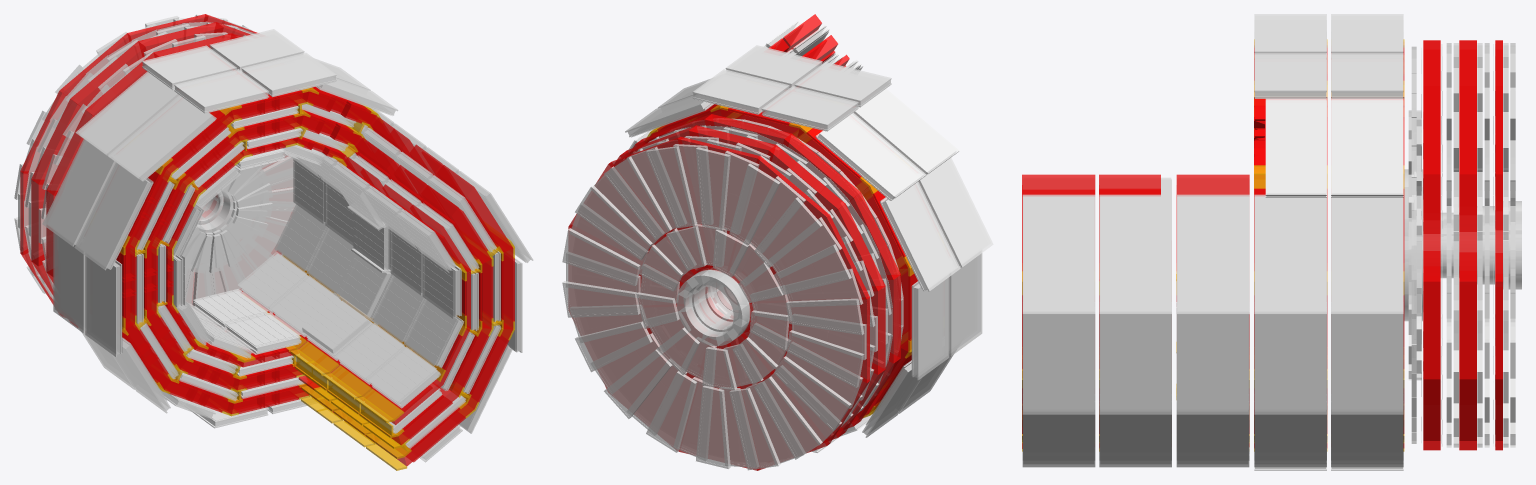
The model's file is muon-2.glb.
3 renders of one model, left to right at view 1: azimuth 30°, elevation 25°; view 2: azimuth 150°, elevation 25°; view 3: azimuth 270°, elevation 25°, orthographic. The views are drawn at different scales.
Visible parts, largest first — view 1: Mesh2129 mb4_MB4BigSuperLayerPhi_materials_Air19 lp_mb4_MB4B, Mesh956 mb4_MB4BigSuperLayerPhi_materials_Air9 lp_mb4_MB4Big, Mesh2126 mb4_MB4BigHoneycombBox_materials_Air8 lp_mb4_MB4Big, Mesh2130 mb4_MB4BigHoneycombBox_materials_Air9 lp_mb4_MB4Big, Mesh2125 mb4_MB4BigSuperLayerPhi_materials_Air17 lp_mb4_MB4B, Mesh952 mb4_MB4BigSuperLayerPhi_materials_Air7 lp_mb4_MB4Big, Mesh953 mb4_MB4BigHoneycombBox_materials_Air3 lp_mb4_MB4BigH, Mesh957 mb4_MB4BigHoneycombBox_materials_Air4 lp_mb4_MB4BigH, Mesh2134 mb4_MB4BigHoneycombBox_materials_Air10 lp_mb4_MB4Bi, Mesh2133 mb4_MB4BigSuperLayerPhi_materials_Air21 lp_mb4_MB4B, Mesh960 mb4_MB4BigSuperLayerPhi_materials_Air11 lp_mb4_MB4Bi, Mesh961 mb4_MB4BigHoneycombBox_materials_Air5 lp_mb4_MB4BigH (+76 smaller); view 2: Mesh458 muonYoke_YE3_b_materials_AISI_1018_Steel1 lp_muonYok, Mesh459 muonYoke_YE3_b_materials_AISI_1018_Steel2 lp_muonYok, Mesh956 mb4_MB4BigSuperLayerPhi_materials_Air9 lp_mb4_MB4Big, Mesh2129 mb4_MB4BigSuperLayerPhi_materials_Air19 lp_mb4_MB4B, Mesh457 muonYoke_YE3_b_materials_AISI_1018_Steel lp_muonYoke, Mesh953 mb4_MB4BigHoneycombBox_materials_Air3 lp_mb4_MB4BigH, Mesh957 mb4_MB4BigHoneycombBox_materials_Air4 lp_mb4_MB4BigH, Mesh952 mb4_MB4BigSuperLayerPhi_materials_Air7 lp_mb4_MB4Big, Mesh2125 mb4_MB4BigSuperLayerPhi_materials_Air17 lp_mb4_MB4B, Mesh2126 mb4_MB4BigHoneycombBox_materials_Air8 lp_mb4_MB4Big, Mesh460 muonYoke_YE3_b_materials_AISI_1018_Steel3 lp_muonYok, Mesh2130 mb4_MB4BigHoneycombBox_materials_Air9 lp_mb4_MB4Big (+109 smaller); view 3: Mesh2916 mb4_MB4BigSuperLayerPhi_materials_Air31 lp_mb4_MB4B, Mesh2272 mb4_MB4BigSuperLayerPhi_materials_Air23 lp_mb4_MB4B, Mesh2635 mb4_MB4BigSuperLayerPhi_materials_Air29 lp_mb4_MB4B, Mesh1546 mb4_MB4BigSuperLayerPhi_materials_Air15 lp_mb4_MB4B, Mesh648 mb4_MB4BigSuperLayerPhi_materials_Air3 lp_mb4_MB4Big, Mesh2273 mb4_MB4BigHoneycombBox_materials_Air11 lp_mb4_MB4Bi, Mesh1547 mb4_MB4BigHoneycombBox_materials_Air7 lp_mb4_MB4Big, Mesh649 mb4_MB4BigHoneycombBox_materials_Air1 lp_mb4_MB4BigH, Mesh2636 mb4_MB4BigHoneycombBox_materials_Air14 lp_mb4_MB4Bi, Mesh2917 mb4_MB4BigHoneycombBox_materials_Air15 lp_mb4_MB4Bi, Mesh2287 mb4_MB4BigSuperLayerPhi_materials_Air25 lp_mb4_MB4B, Mesh3029 mb4_MB4BigSuperLayerPhi_materials_Air33 lp_mb4_MB4B (+56 smaller).
Part boxes in pixels (bbox=[...]): Mesh2129 mb4_MB4BigSuperLayerPhi_materials_Air19 lp_mb4_MB4B: bbox=[74, 162, 148, 270]; Mesh956 mb4_MB4BigSuperLayerPhi_materials_Air9 lp_mb4_MB4Big: bbox=[42, 139, 114, 246]; Mesh2126 mb4_MB4BigHoneycombBox_materials_Air8 lp_mb4_MB4Big: bbox=[111, 96, 213, 179]; Mesh2130 mb4_MB4BigHoneycombBox_materials_Air9 lp_mb4_MB4Big: bbox=[77, 164, 151, 269]; Mesh2125 mb4_MB4BigSuperLayerPhi_materials_Air17 lp_mb4_MB4B: bbox=[108, 95, 212, 178]; Mesh952 mb4_MB4BigSuperLayerPhi_materials_Air7 lp_mb4_MB4Big: bbox=[75, 71, 178, 155]; Mesh953 mb4_MB4BigHoneycombBox_materials_Air3 lp_mb4_MB4BigH: bbox=[79, 73, 179, 155]; Mesh957 mb4_MB4BigHoneycombBox_materials_Air4 lp_mb4_MB4BigH: bbox=[45, 140, 116, 244]; Mesh2134 mb4_MB4BigHoneycombBox_materials_Air10 lp_mb4_MB4Bi: bbox=[87, 258, 120, 354]; Mesh2133 mb4_MB4BigSuperLayerPhi_materials_Air21 lp_mb4_MB4B: bbox=[85, 254, 116, 356]; Mesh960 mb4_MB4BigSuperLayerPhi_materials_Air11 lp_mb4_MB4Bi: bbox=[53, 230, 84, 333]; Mesh961 mb4_MB4BigHoneycombBox_materials_Air5 lp_mb4_MB4BigH: bbox=[55, 234, 86, 330]; Mesh458 muonYoke_YE3_b_materials_AISI_1018_Steel1 lp_muonYok: bbox=[741, 215, 869, 303]; Mesh459 muonYoke_YE3_b_materials_AISI_1018_Steel2 lp_muonYok: bbox=[727, 156, 829, 285]; Mesh956 mb4_MB4BigSuperLayerPhi_materials_Air9 lp_mb4_MB4Big: bbox=[885, 181, 960, 291]; Mesh2129 mb4_MB4BigSuperLayerPhi_materials_Air19 lp_mb4_MB4B: bbox=[919, 157, 993, 267]; Mesh457 muonYoke_YE3_b_materials_AISI_1018_Steel lp_muonYoke: bbox=[749, 297, 869, 382]; Mesh953 mb4_MB4BigHoneycombBox_materials_Air3 lp_mb4_MB4BigH: bbox=[818, 114, 923, 199]; Mesh957 mb4_MB4BigHoneycombBox_materials_Air4 lp_mb4_MB4BigH: bbox=[882, 183, 957, 290]; Mesh952 mb4_MB4BigSuperLayerPhi_materials_Air7 lp_mb4_MB4Big: bbox=[819, 112, 926, 198]; Mesh2125 mb4_MB4BigSuperLayerPhi_materials_Air17 lp_mb4_MB4B: bbox=[854, 88, 959, 173]; Mesh2126 mb4_MB4BigHoneycombBox_materials_Air8 lp_mb4_MB4Big: bbox=[853, 90, 955, 174]; Mesh460 muonYoke_YE3_b_materials_AISI_1018_Steel3 lp_muonYok: bbox=[677, 136, 760, 272]; Mesh2130 mb4_MB4BigHoneycombBox_materials_Air9 lp_mb4_MB4Big: bbox=[918, 159, 990, 265]; Mesh2916 mb4_MB4BigSuperLayerPhi_materials_Air31 lp_mb4_MB4B: bbox=[1022, 196, 1095, 314]; Mesh2272 mb4_MB4BigSuperLayerPhi_materials_Air23 lp_mb4_MB4B: bbox=[1177, 196, 1249, 314]; Mesh2635 mb4_MB4BigSuperLayerPhi_materials_Air29 lp_mb4_MB4B: bbox=[1099, 196, 1171, 314]; Mesh1546 mb4_MB4BigSuperLayerPhi_materials_Air15 lp_mb4_MB4B: bbox=[1254, 196, 1326, 314]; Mesh648 mb4_MB4BigSuperLayerPhi_materials_Air3 lp_mb4_MB4Big: bbox=[1331, 197, 1403, 314]; Mesh2273 mb4_MB4BigHoneycombBox_materials_Air11 lp_mb4_MB4Bi: bbox=[1178, 197, 1248, 311]; Mesh1547 mb4_MB4BigHoneycombBox_materials_Air7 lp_mb4_MB4Big: bbox=[1255, 197, 1325, 311]; Mesh649 mb4_MB4BigHoneycombBox_materials_Air1 lp_mb4_MB4BigH: bbox=[1332, 198, 1402, 311]; Mesh2636 mb4_MB4BigHoneycombBox_materials_Air14 lp_mb4_MB4Bi: bbox=[1101, 197, 1170, 311]; Mesh2917 mb4_MB4BigHoneycombBox_materials_Air15 lp_mb4_MB4Bi: bbox=[1024, 197, 1093, 311]; Mesh2287 mb4_MB4BigSuperLayerPhi_materials_Air25 lp_mb4_MB4B: bbox=[1176, 307, 1249, 414]; Mesh3029 mb4_MB4BigSuperLayerPhi_materials_Air33 lp_mb4_MB4B: bbox=[1022, 313, 1095, 414].
Size of the model in its own units: 15.79 by 14.73 by 17.29.
